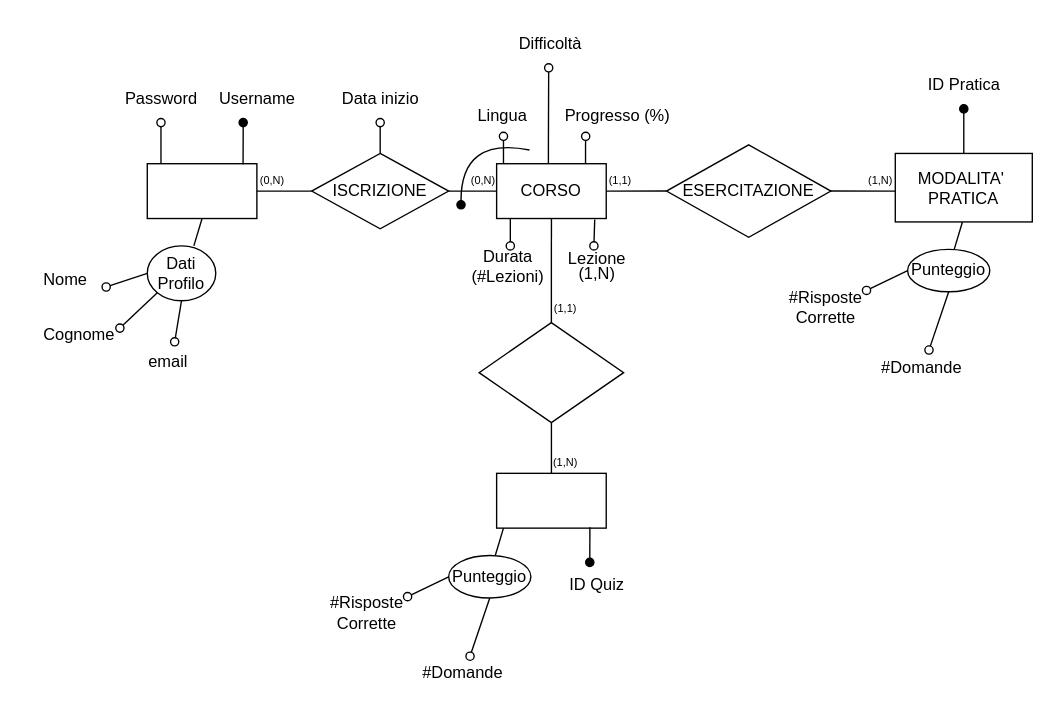
Some shapes in this 1056 by 717 pixel diagram are drawn without their labels. Here are the shapes that lost their labels. From the top down, the centre of each, then its label:
At (201,190): "UTENTE".
At (551,372): "VALUTAZIONE".
At (550,500): "QUIZ".
